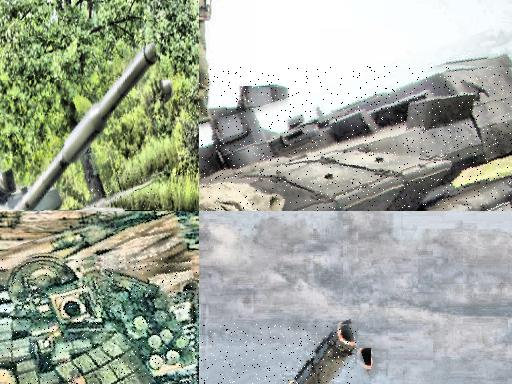tanks: (200, 67, 512, 212), (2, 42, 159, 212), (1, 259, 200, 384), (291, 325, 357, 384), (80, 178, 166, 212)
